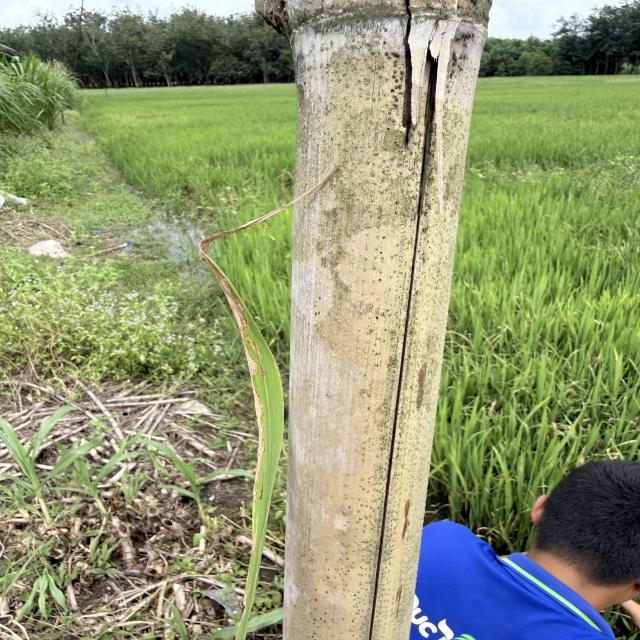Chay bia la: (191, 166, 339, 552)
